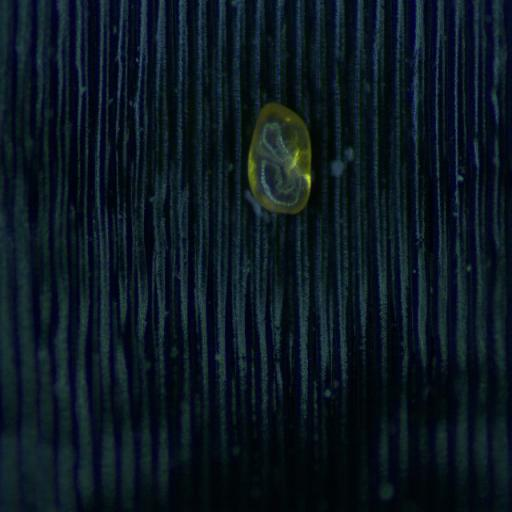mineral: (248, 102, 310, 213)
